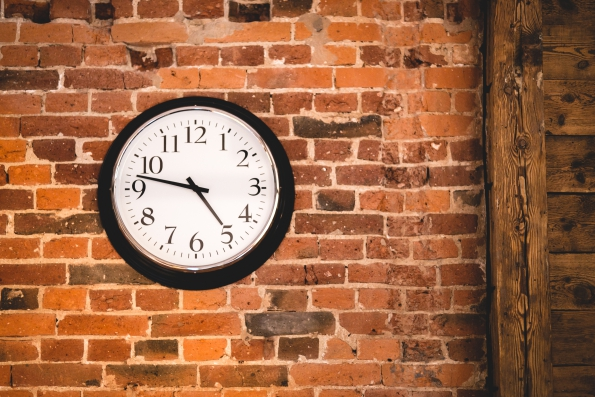clock: (115, 109, 278, 269)
